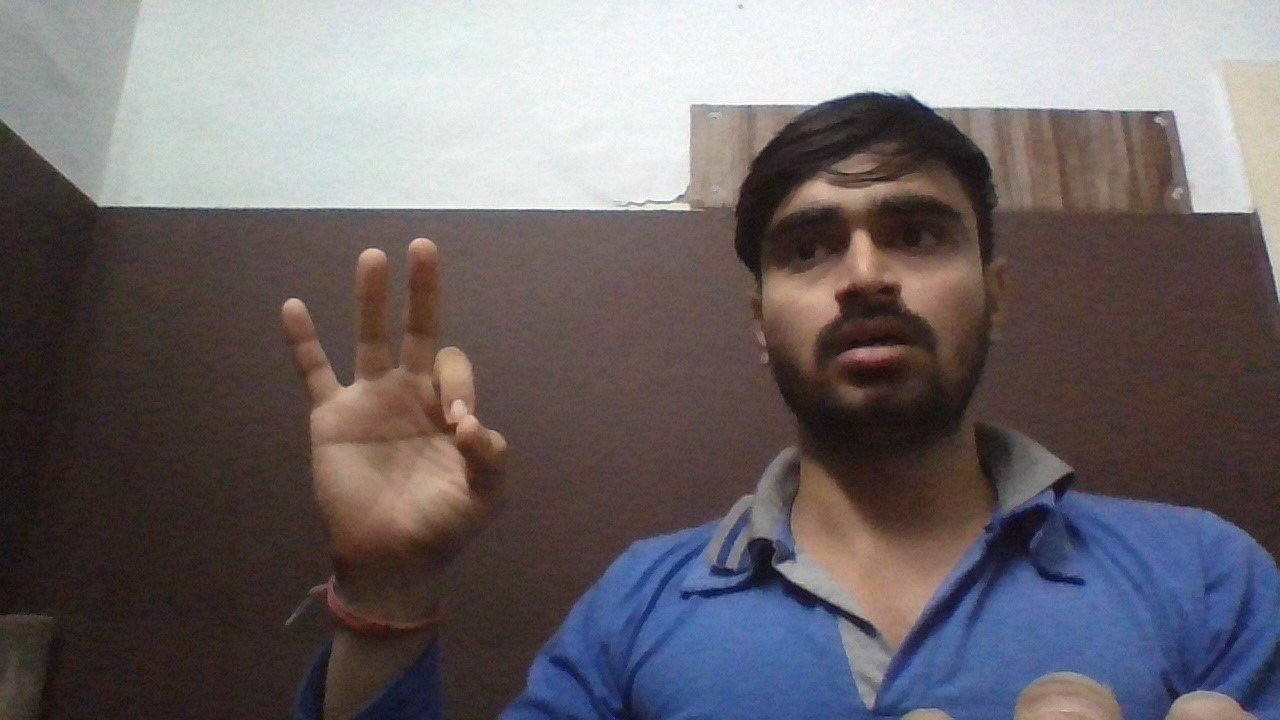F: (272, 226, 530, 601)
